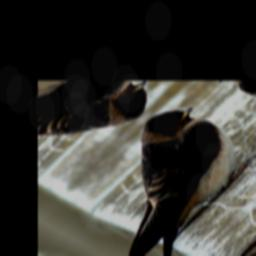Swallow: (49, 94, 256, 256)
